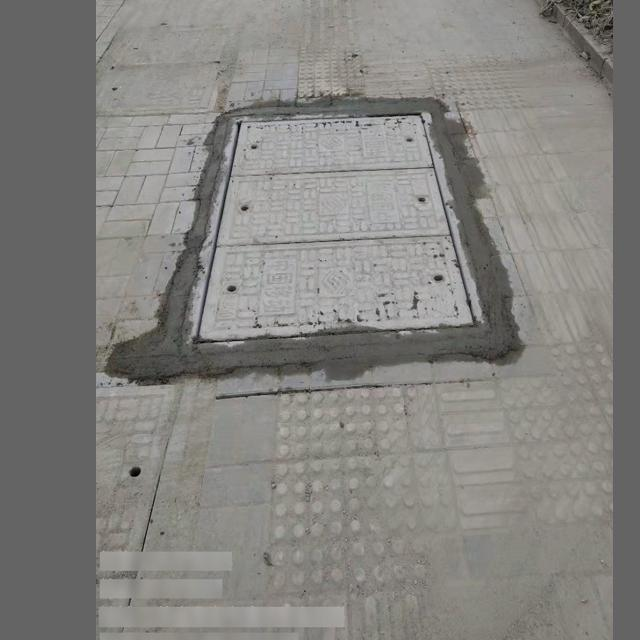good: (200, 114, 477, 329)
